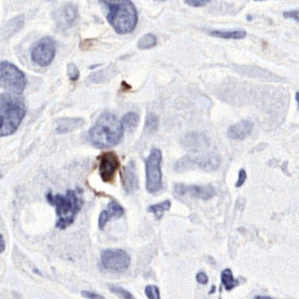Lymphocyte: (96, 148, 123, 184)
